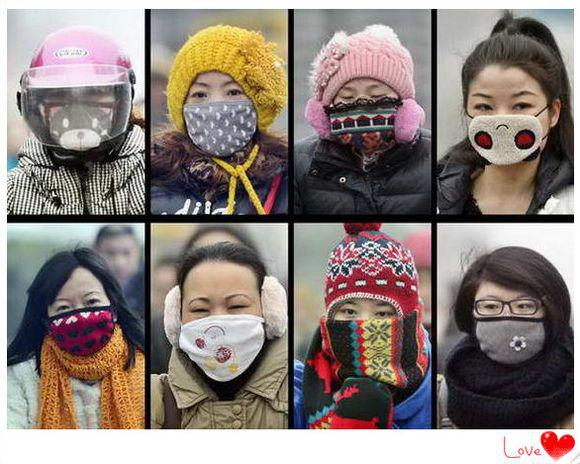NONE: (99, 243, 136, 285)
OK: (183, 291, 265, 375), (466, 87, 548, 163), (182, 81, 261, 157), (330, 295, 404, 368), (333, 81, 405, 153), (475, 289, 544, 357), (45, 82, 113, 150), (47, 283, 110, 353)
